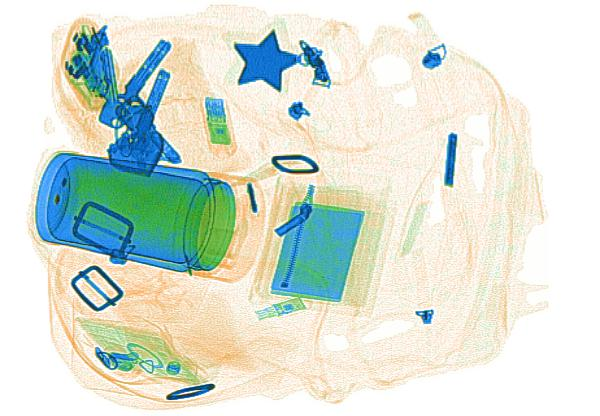USBFlashDisk: (199, 93, 237, 156), (253, 293, 311, 320)
